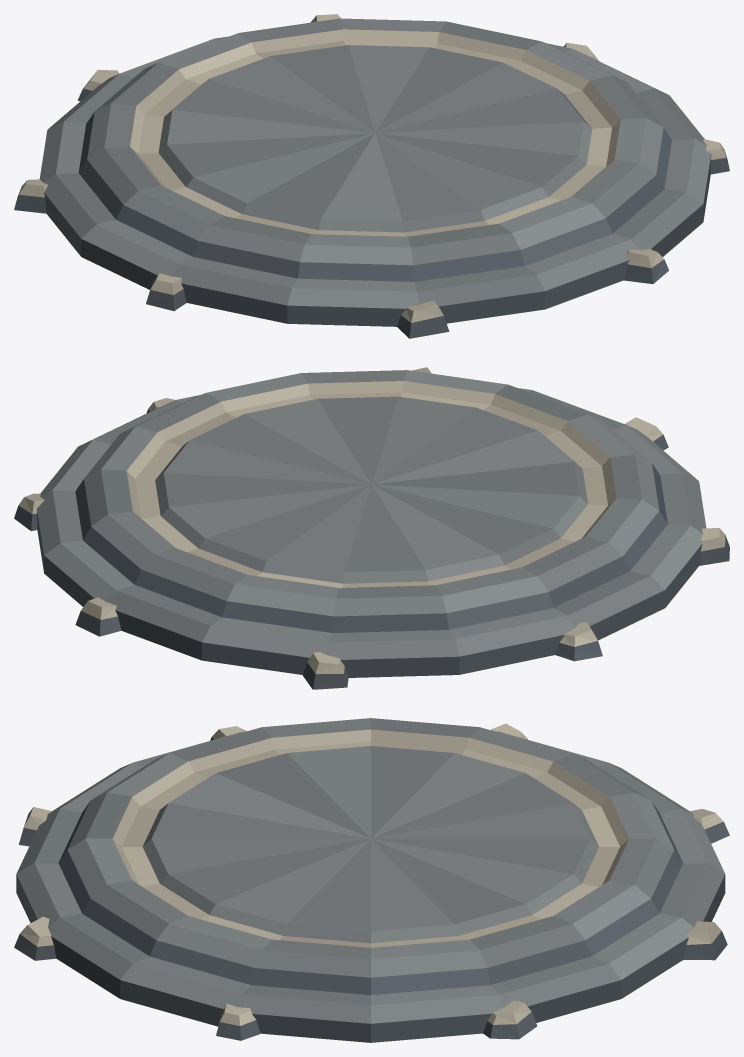
3 renders of one model, top to bottom at view 1: azimuth 30°, elevation 25°; view 2: azimuth 150°, elevation 25°; view 3: azimuth 270°, elevation 25°, orthographic. The views are drawn at different scales.
Parts seen in each view (by area): view 1: coast-station; view 2: coast-station; view 3: coast-station.
Part boxes in pixels (<box>): coast-station: <box>14,14,729,338</box>; coast-station: <box>14,367,729,689</box>; coast-station: <box>14,718,729,1042</box>.
Bounding box in the file's own units: 2.37 × 0.2 × 2.38.
